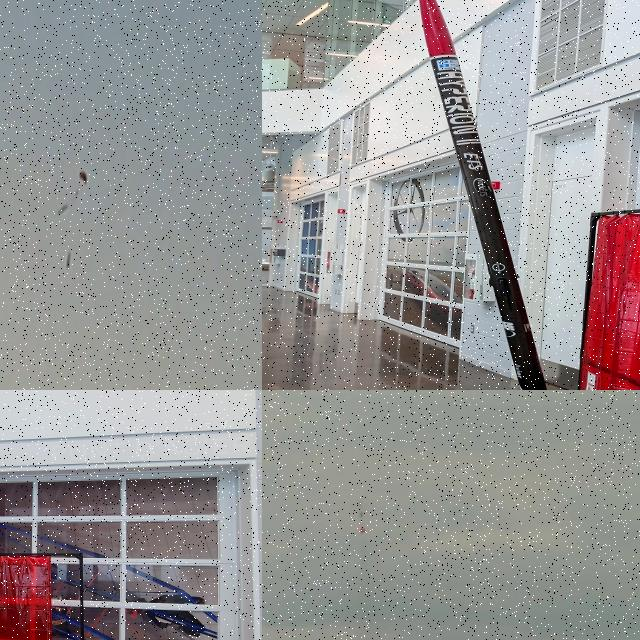Rocket: (419, 0, 547, 390), (356, 500, 366, 534), (65, 251, 72, 271)
